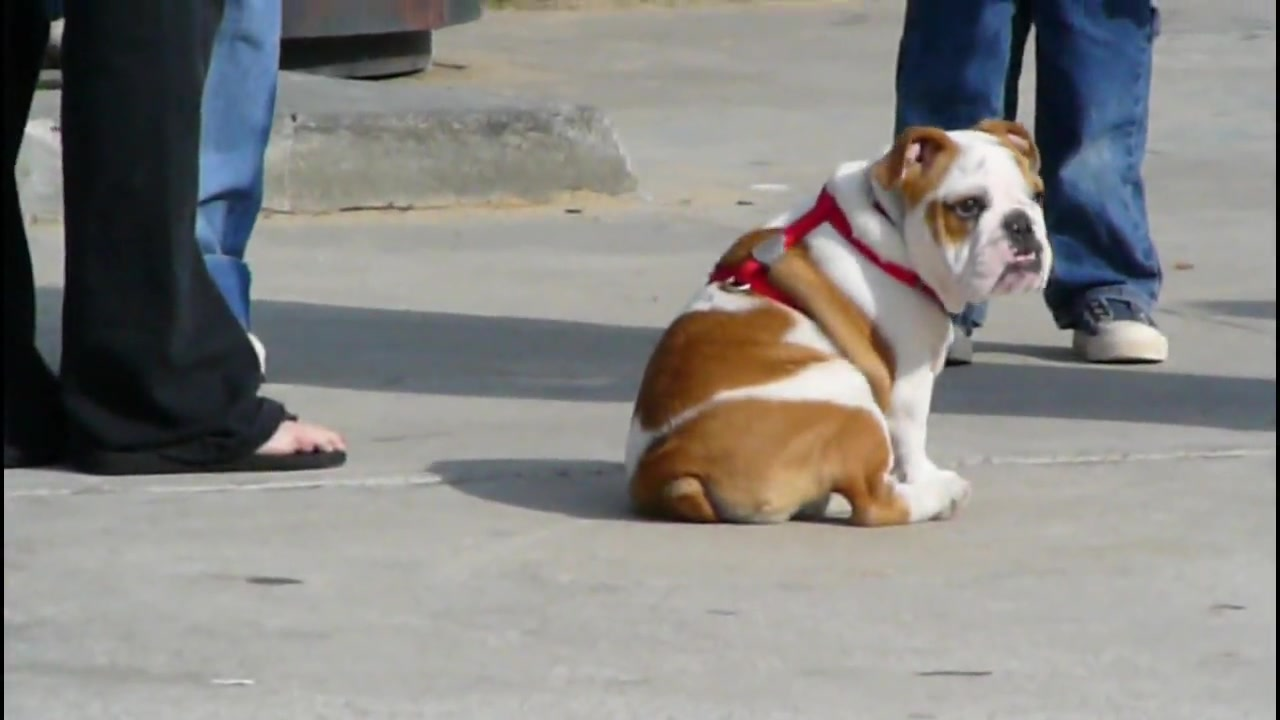dog: (620, 116, 1053, 527)
